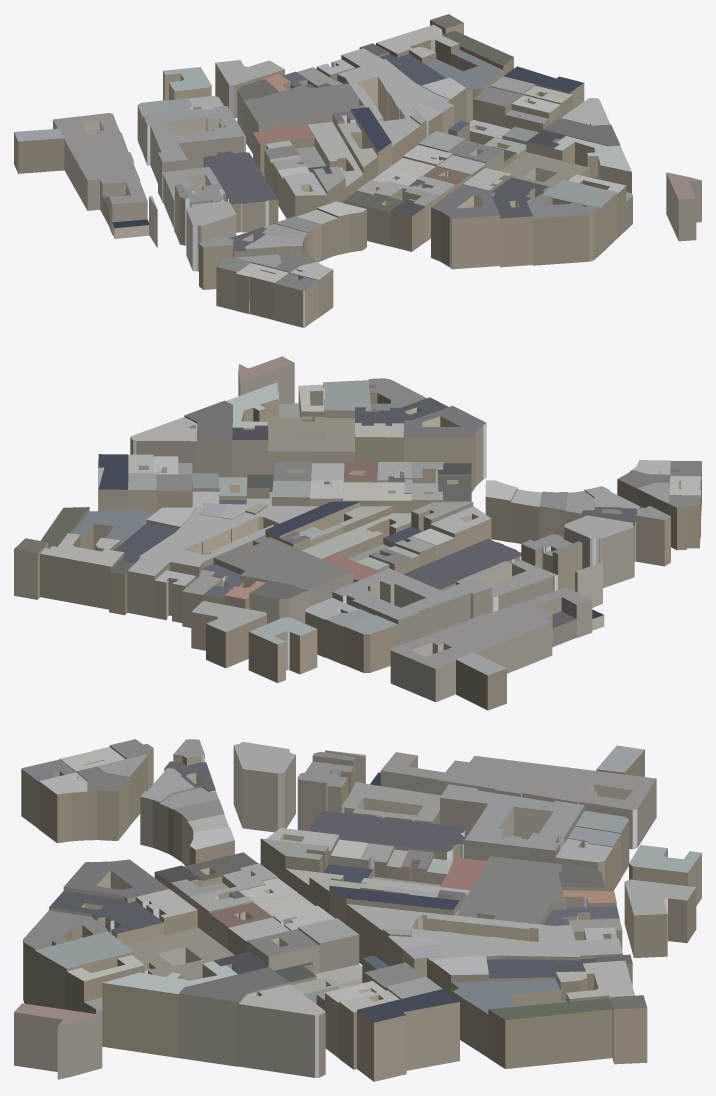
3 views of the same model, one above another, from view 1: azimuth 30°, elevation 25°; view 2: azimuth 150°, elevation 25°; view 3: azimuth 270°, elevation 25° (orthographic). The views are drawn at different scales.
Visible parts, largest first — view 1: tuile; view 2: tuile; view 3: tuile.
Boxes of the visible parts, <box> form: tuile: <box>14,14,701,327</box>; tuile: <box>14,356,701,710</box>; tuile: <box>14,739,701,1081</box>.
Size of the model in its own units: 276 by 30.03 by 272.
